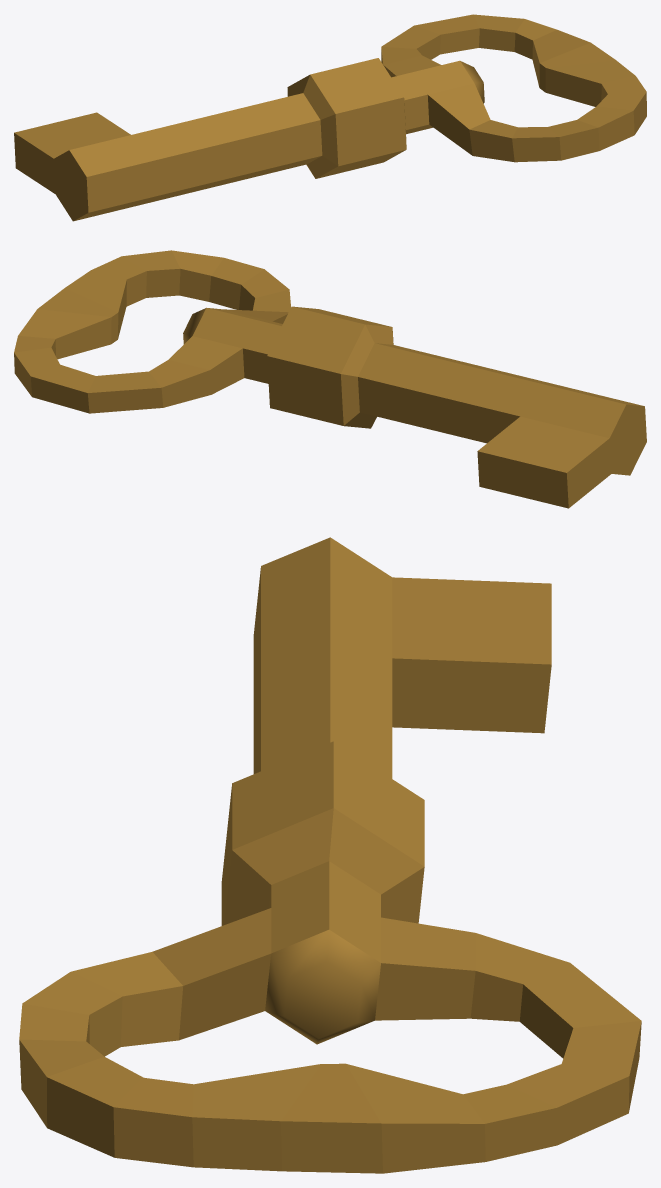
File: small_key.fbx
3 views of the same model, one above another, from view 1: azimuth 30°, elevation 25°; view 2: azimuth 150°, elevation 25°; view 3: azimuth 270°, elevation 25° (orthographic). The views are drawn at different scales.
Visible parts, largest first — view 1: key; view 2: key; view 3: key.
Boxes of the visible parts, box(x1,y1,x2,y2) form: key: box(14, 14, 646, 221); key: box(14, 250, 646, 508); key: box(19, 537, 641, 1173).
Bounding box in the file's own units: 31.82 × 5.73 × 16.05.
